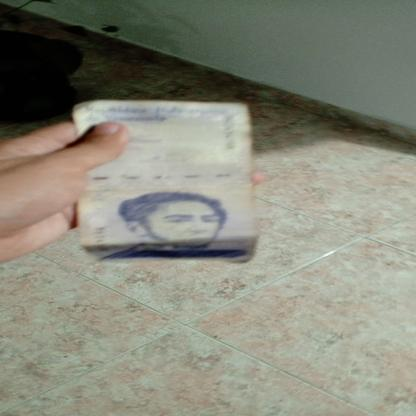ten-front-vef: (71, 100, 254, 264)
